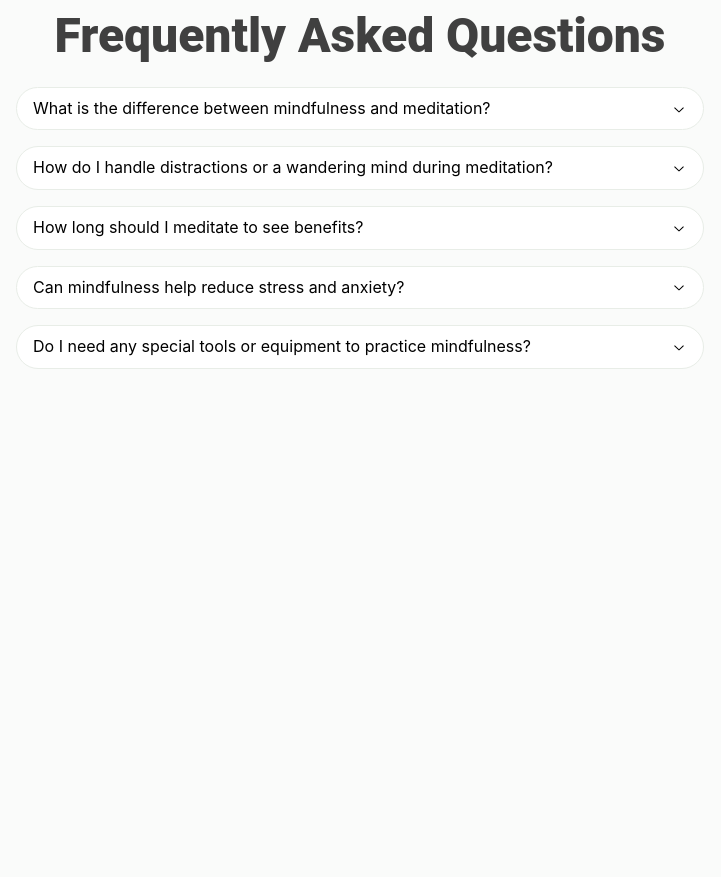
it: LandingFAQ › Accordion Interactions › expands duration question and shows content
The width and height of the screenshot is (721, 877).
What coordinates should you click on to do the following:
click the button "How long should I meditate to see benefits?"
I would click on:
 (360, 228)
Its box is [17,207,703,249].
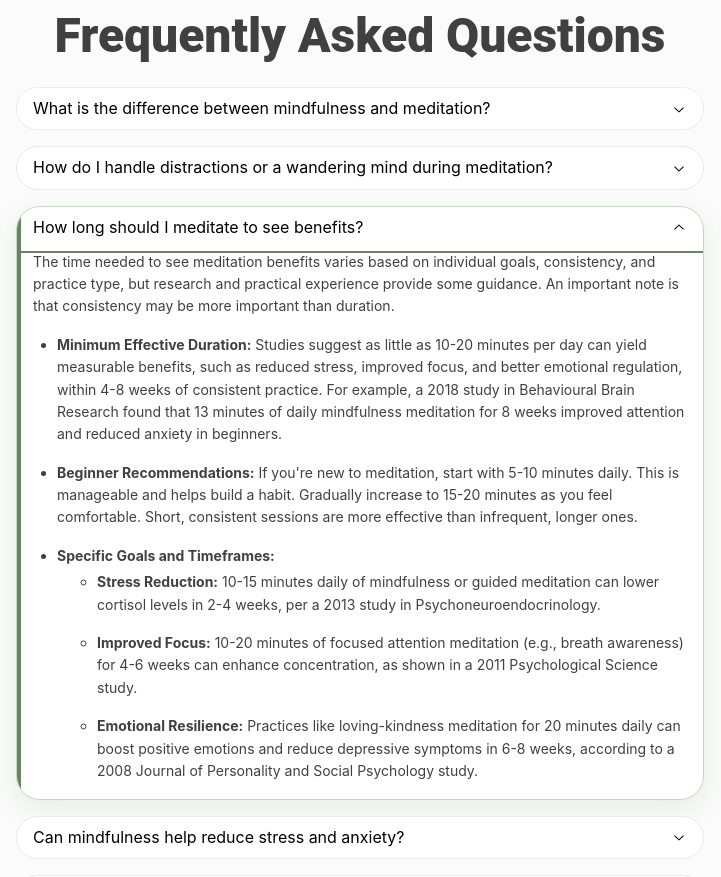
expect the text "Minimum Effective Duration:" is shown: met, box [57,336,251,353]
expect the text "Beginner Recommendations:" is shown: met, box [57,464,254,481]
